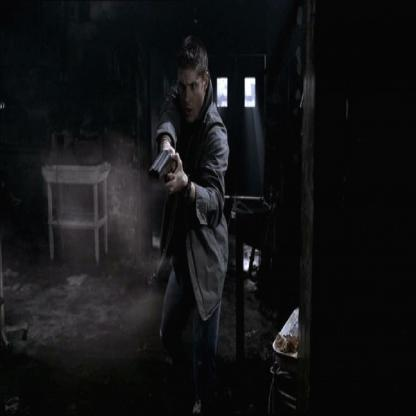Gun: (146, 143, 179, 202)
